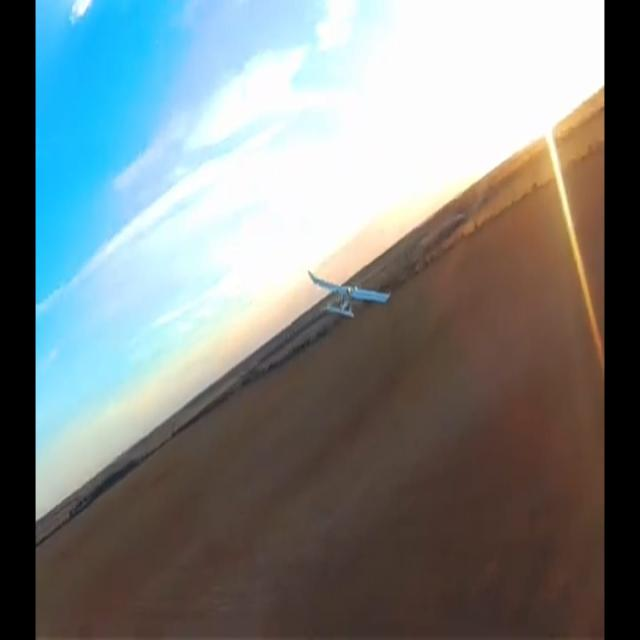iha: (338, 267, 359, 321)
